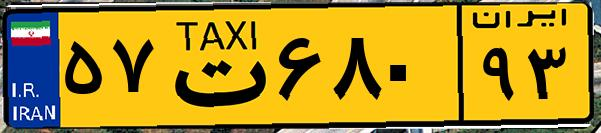0: (385, 28, 445, 110)
3: (525, 38, 570, 115)
5: (57, 26, 110, 100)
6: (270, 28, 330, 110)
7: (110, 28, 158, 98)
8: (330, 28, 385, 110)
9: (475, 38, 525, 113)
ت: (158, 12, 270, 120)
